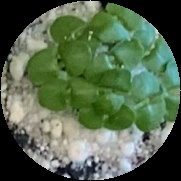Basil: (25, 42, 88, 87), (39, 81, 97, 111), (50, 17, 102, 50), (134, 73, 163, 129), (91, 2, 133, 40), (81, 102, 133, 129), (117, 27, 153, 65), (94, 72, 132, 108)
